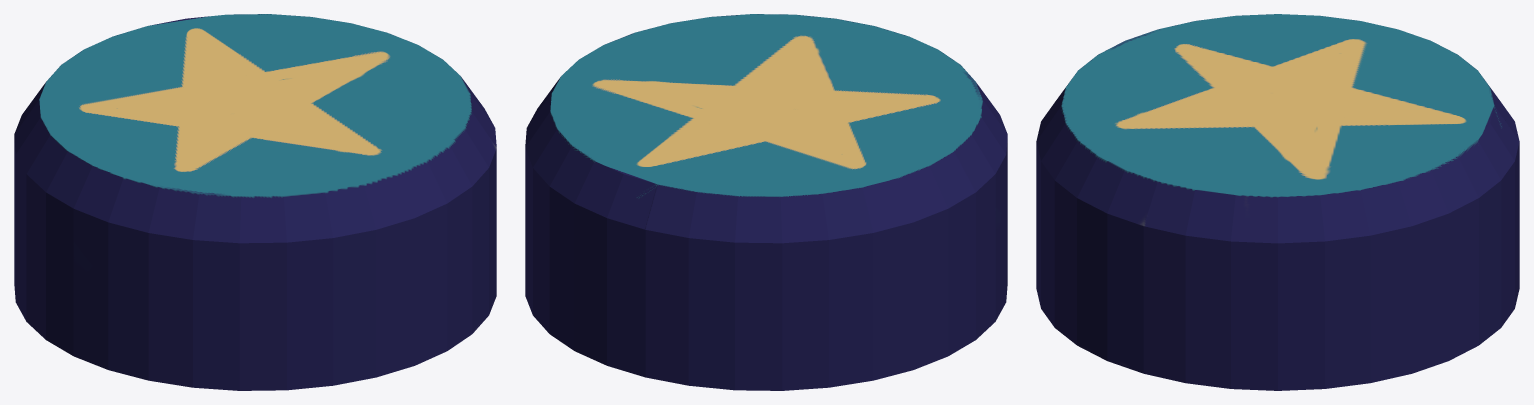
Rendered from roundBumper.glb.
3 renders of one model, left to right at view 1: azimuth 30°, elevation 25°; view 2: azimuth 150°, elevation 25°; view 3: azimuth 270°, elevation 25°, orthographic.
Parts seen in each view (by area): view 1: Cylinder; view 2: Cylinder; view 3: Cylinder.
Boxes of the visible parts, left/top/right/bottom form: Cylinder: left=14, top=14, right=496, bottom=390; Cylinder: left=525, top=14, right=1007, bottom=390; Cylinder: left=1036, top=14, right=1519, bottom=390.
Bounding box in the file's own units: 3.25 × 1.36 × 3.25.
1 material, 1 textured.
